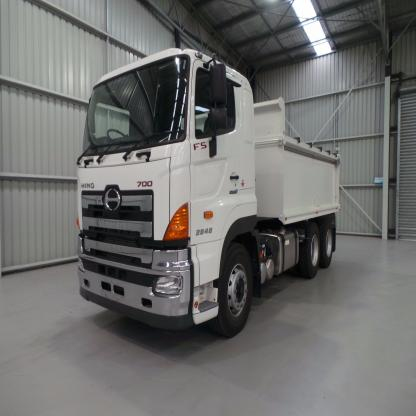dump_truck: (69, 40, 351, 344)
